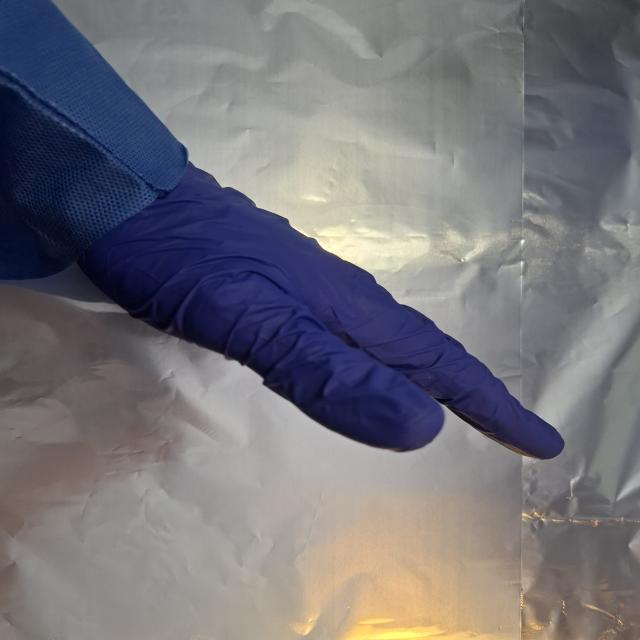glove_on: (71, 166, 569, 463)
